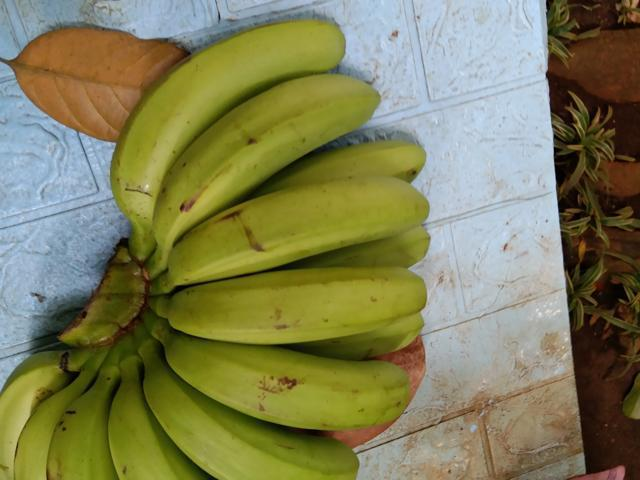freshunripe: (105, 14, 347, 228), (153, 248, 438, 345), (140, 367, 379, 479)
unripe: (155, 168, 430, 290), (165, 321, 412, 432), (102, 377, 201, 479), (39, 392, 125, 479)
